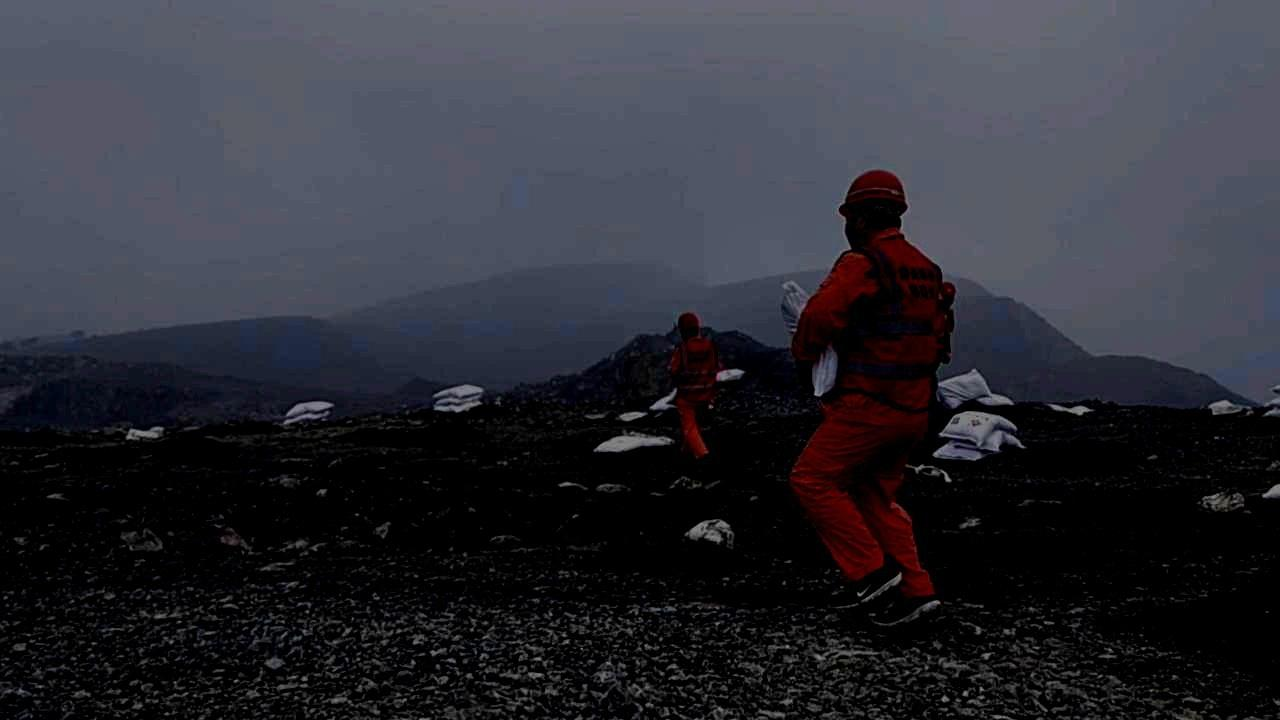helmet: (838, 169, 908, 249), (677, 312, 699, 342), (939, 281, 956, 310)
